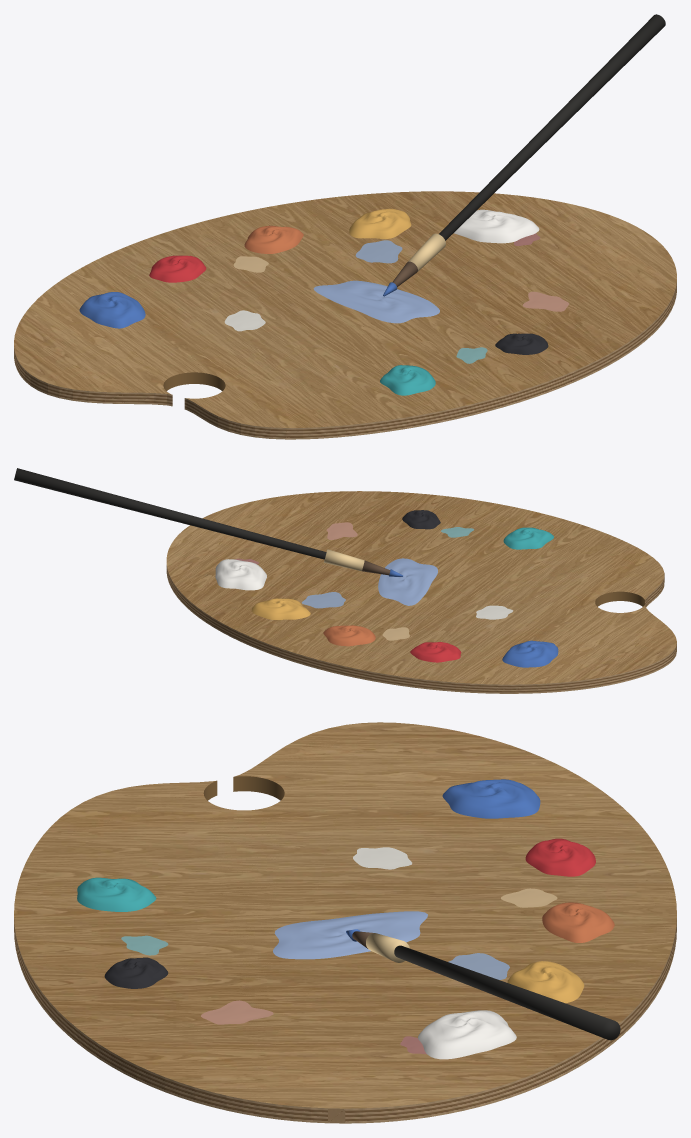
File: paleta.glb
3 renders of one model, top to bottom at view 1: azimuth 30°, elevation 25°; view 2: azimuth 150°, elevation 25°; view 3: azimuth 270°, elevation 25°, orthographic. The views are drawn at different scales.
Visible parts, largest first — view 1: paleta_plyta, pedzel_paleta_trzonek, smuga, grudka_biel, grudka_ultramaryna, grudka_ochra, grudka_terakota, grudka_turkus, grudka_czerwien, grudka_czern, zaschniete_0, pedzel_paleta_skuwka (+1 smaller); view 2: paleta_plyta, pedzel_paleta_trzonek, smuga, grudka_biel, grudka_ultramaryna, grudka_ochra, grudka_terakota, grudka_turkus, grudka_czerwien, grudka_czern, zaschniete_0, pedzel_paleta_skuwka (+2 smaller); view 3: paleta_plyta, smuga, pedzel_paleta_trzonek, grudka_biel, grudka_ultramaryna, grudka_turkus, grudka_terakota, grudka_ochra, grudka_czerwien, grudka_czern, zaschniete_2, zaschniete_3 (+4 smaller).
Part boxes in pixels (<box>): paleta_plyta: <box>14,191,676,439</box>; pedzel_paleta_trzonek: <box>439,14,665,240</box>; smuga: <box>313,280,439,323</box>; grudka_biel: <box>454,209,539,243</box>; grudka_ultramaryna: <box>79,292,145,328</box>; grudka_ochra: <box>349,208,411,238</box>; grudka_terakota: <box>244,225,303,253</box>; grudka_turkus: <box>380,365,435,395</box>; grudka_czerwien: <box>149,255,206,282</box>; grudka_czern: <box>495,333,548,354</box>; zaschniete_0: <box>355,240,402,263</box>; pedzel_paleta_skuwka: <box>408,233,445,271</box>; paleta_plyta: <box>166,491,676,693</box>; pedzel_paleta_trzonek: <box>14,468,326,559</box>; smuga: <box>378,558,437,605</box>; grudka_biel: <box>215,559,266,590</box>; grudka_ultramaryna: <box>502,640,558,667</box>; grudka_ochra: <box>251,598,310,619</box>; grudka_terakota: <box>323,625,375,646</box>; grudka_turkus: <box>503,527,553,549</box>; grudka_czerwien: <box>410,642,461,662</box>; grudka_czern: <box>402,510,440,529</box>; zaschniete_0: <box>302,592,345,608</box>; pedzel_paleta_skuwka: <box>324,549,364,571</box>; paleta_plyta: <box>14,722,676,1123</box>; smuga: <box>273,911,427,959</box>; pedzel_paleta_trzonek: <box>394,945,620,1040</box>; grudka_biel: <box>418,1010,516,1059</box>; grudka_ultramaryna: <box>442,779,540,818</box>; grudka_turkus: <box>77,877,156,911</box>; grudka_terakota: <box>542,902,614,942</box>; grudka_ochra: <box>507,961,584,1003</box>; grudka_czerwien: <box>525,838,595,876</box>; grudka_czern: <box>104,957,168,988</box>; zaschniete_2: <box>201,1000,273,1024</box>; zaschniete_3: <box>353,847,412,869</box>.
Size of the model in its own units: 0.5883 by 0.103 by 0.36.
Materials: 20 (2 with a texture image).
